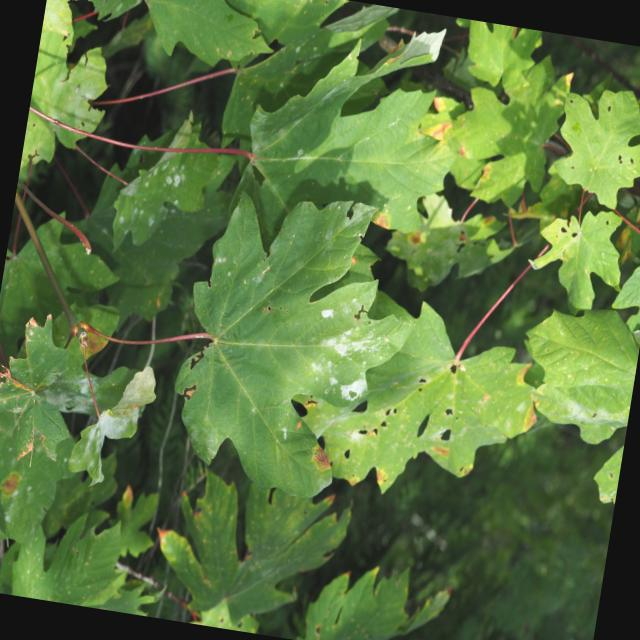powdery_mildew: (176, 195, 409, 497)
